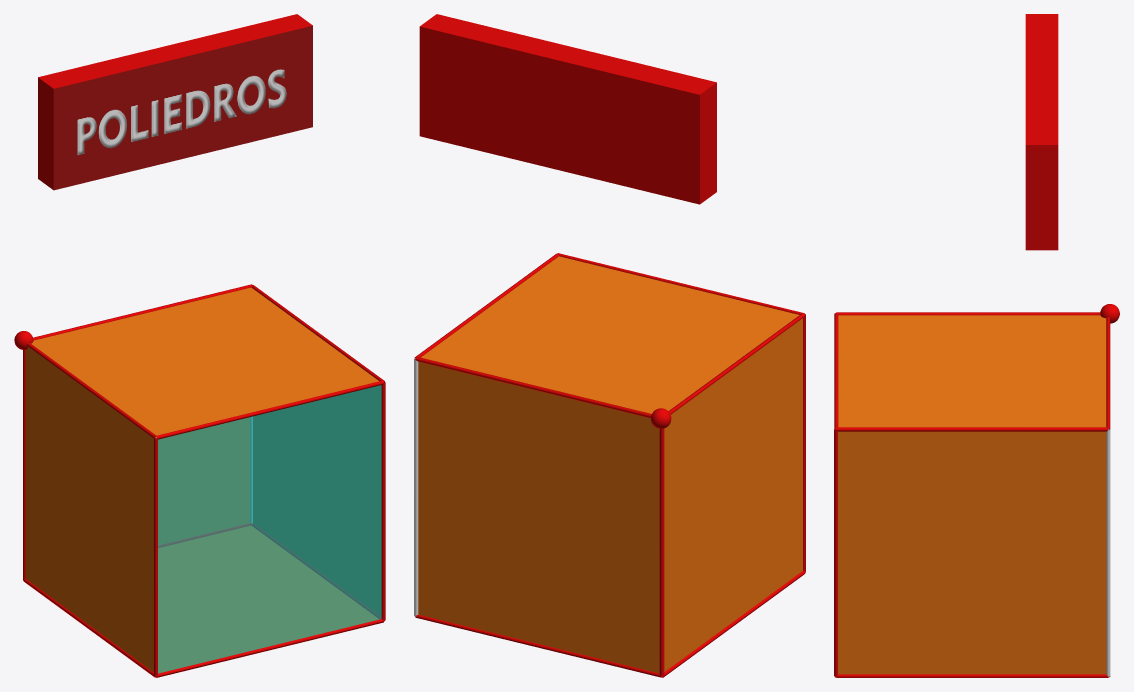
Rendered from CUBO.fbx.
3 renders of one model, left to right at view 1: azimuth 30°, elevation 25°; view 2: azimuth 150°, elevation 25°; view 3: azimuth 270°, elevation 25°, orthographic. The views are drawn at different scales.
Visible parts, largest first — view 1: polySurface85, polySurface72, polySurface93, polySurface84, polySurface74, polySurface73, polySurface77, polySurface75, polySurface78, polySurface80, polySurface82, polySurface79; view 2: polySurface85, polySurface93, polySurface80, polySurface81, polySurface75, polySurface76, polySurface74, polySurface78, polySurface77, polySurface82, polySurface79; view 3: polySurface85, polySurface93, polySurface79, polySurface81, polySurface83, polySurface78, polySurface84, polySurface74, polySurface75.
Part boxes in pixels (x1,y1,x2,y2): polySurface85: (25, 287, 381, 673); polySurface72: (156, 385, 381, 673); polySurface93: (38, 14, 312, 190); polySurface84: (381, 382, 385, 620); polySurface74: (155, 380, 384, 439); polySurface73: (155, 619, 383, 677); polySurface77: (154, 437, 157, 676); polySurface75: (33, 284, 251, 340); polySurface78: (27, 343, 156, 438); polySurface80: (23, 350, 25, 579); polySurface82: (23, 578, 156, 677); polySurface79: (251, 284, 384, 382); polySurface85: (418, 256, 802, 673); polySurface93: (419, 14, 716, 204); polySurface80: (659, 428, 664, 676); polySurface81: (414, 358, 418, 616); polySurface75: (415, 357, 651, 418); polySurface76: (415, 614, 662, 677); polySurface74: (558, 253, 803, 314); polySurface78: (668, 313, 805, 414); polySurface77: (803, 314, 805, 571); polySurface82: (661, 571, 805, 677); polySurface79: (414, 253, 558, 359); polySurface85: (838, 315, 1106, 674); polySurface93: (1025, 14, 1058, 250); polySurface79: (836, 427, 1108, 431); polySurface81: (1106, 428, 1110, 676); polySurface83: (836, 674, 1108, 677); polySurface78: (836, 312, 1100, 315); polySurface84: (834, 428, 837, 676); polySurface74: (834, 312, 838, 429); polySurface75: (1106, 317, 1110, 428).
Bounding box in the file's own units: 6.94 × 13.43 × 6.4.
Materials: 5 (2 with a texture image).
